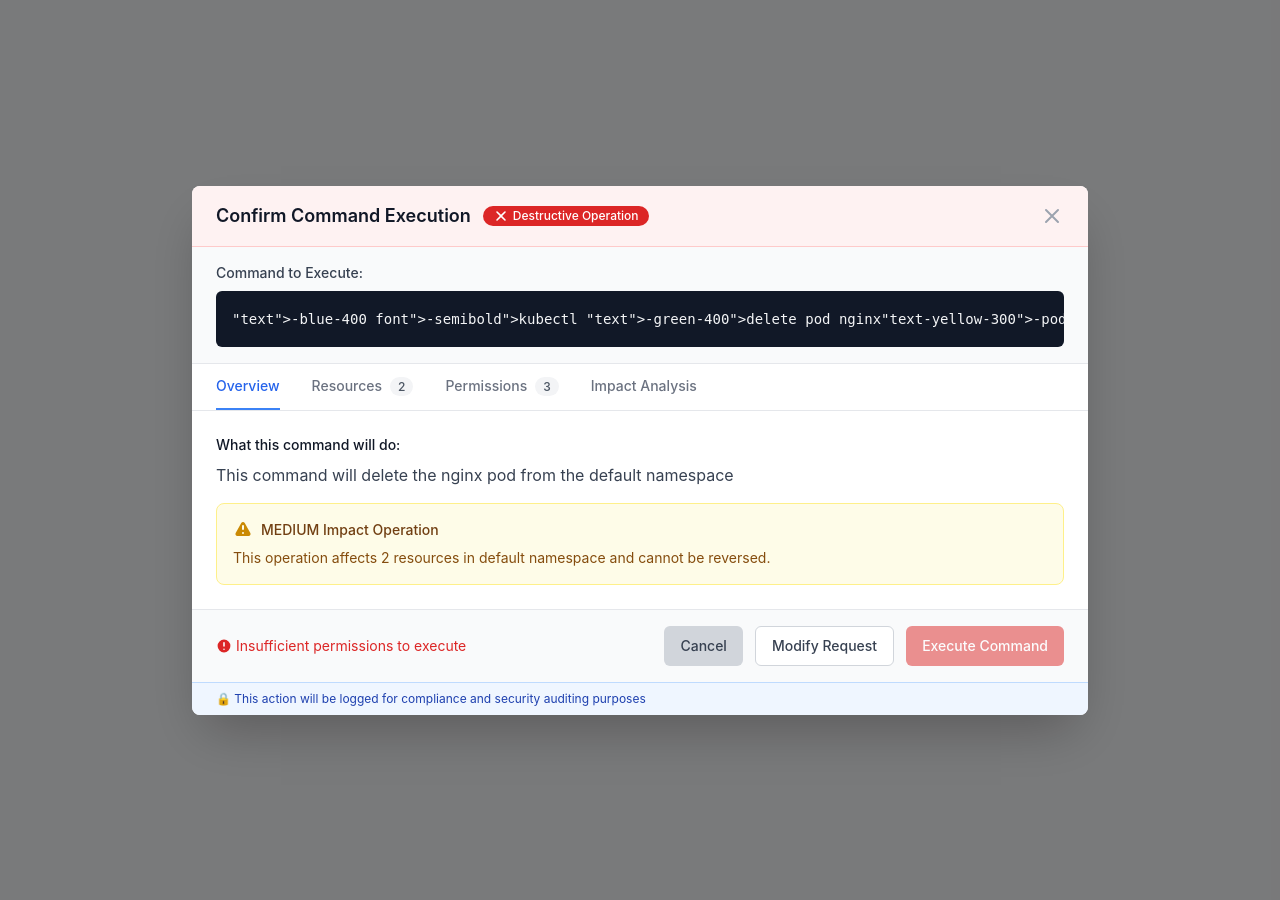
Test case: EnhancedCommandConfirmationDialog › Permission Validation › shows permission denied status
Click the button "Permissions3". click: click(502, 386)
box: [446, 364, 559, 410]
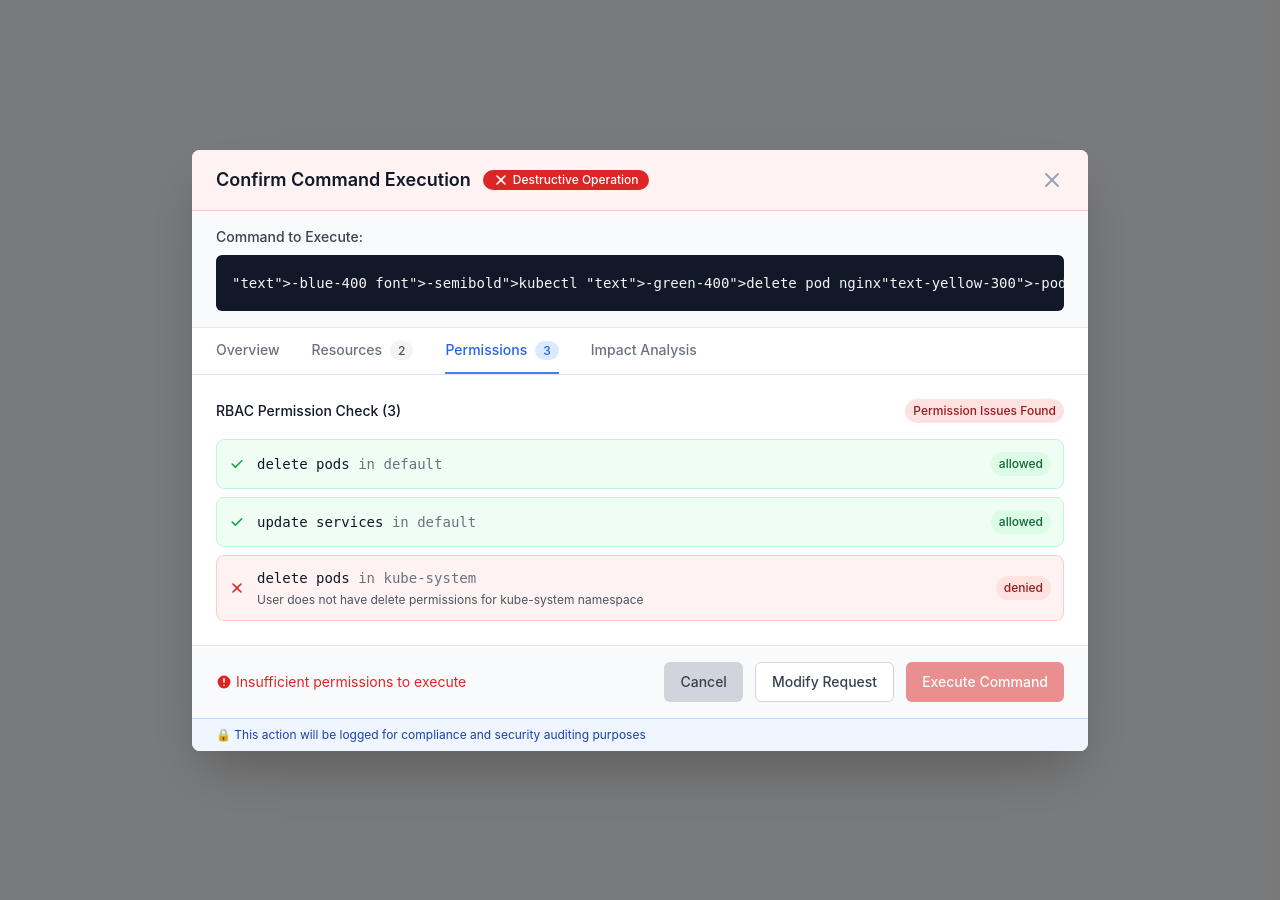
Expected: the text "Insufficient permissions to execute" is shown, [216, 672, 466, 692]
Expected: the text "Permission Issues Found" is shown, [905, 398, 1064, 422]
Expected: the text "User does not have delete permissions for kube-system namespace" is shown, [257, 592, 644, 608]
